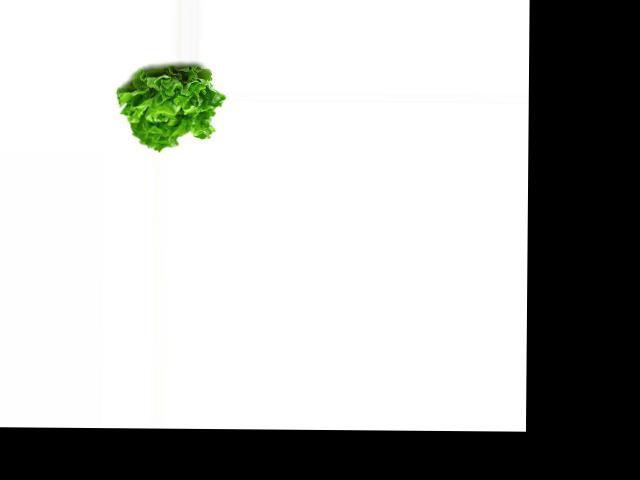lettuce: (118, 62, 224, 151)
